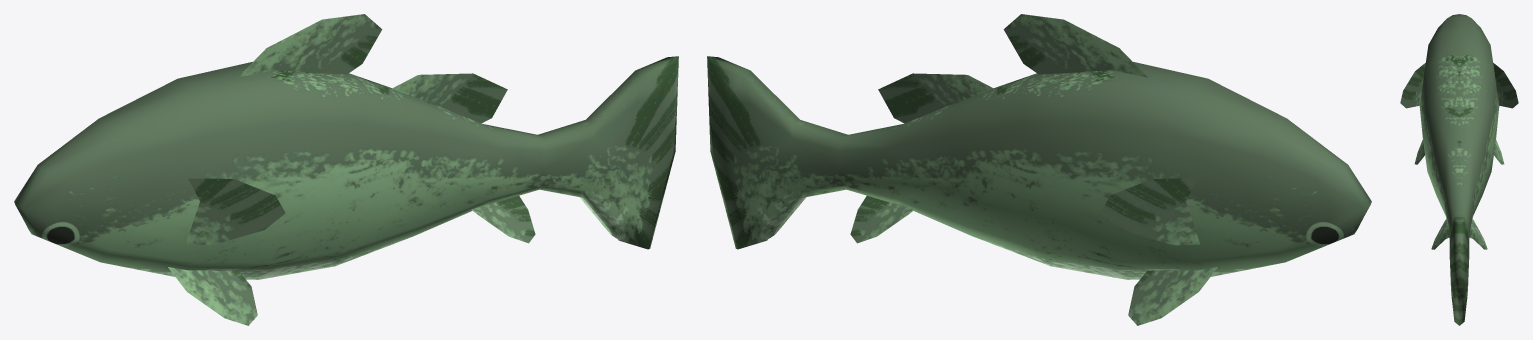
Rendered from CookedFish.fbx.
The picture shows the model from 3 angles, left to right: view 1: azimuth 30°, elevation 25°; view 2: azimuth 150°, elevation 25°; view 3: azimuth 270°, elevation 25°; orthographic projection. The views are drawn at different scales.
Visible parts, largest first — view 1: FishInvItem; view 2: FishInvItem; view 3: FishInvItem.
Boxes of the visible parts, box(x1,y1,x2,y2) form: FishInvItem: box(14, 14, 678, 325); FishInvItem: box(707, 14, 1371, 325); FishInvItem: box(1400, 14, 1518, 325).
Size of the model in its own units: 0.9768 by 0.435 by 0.2546.
